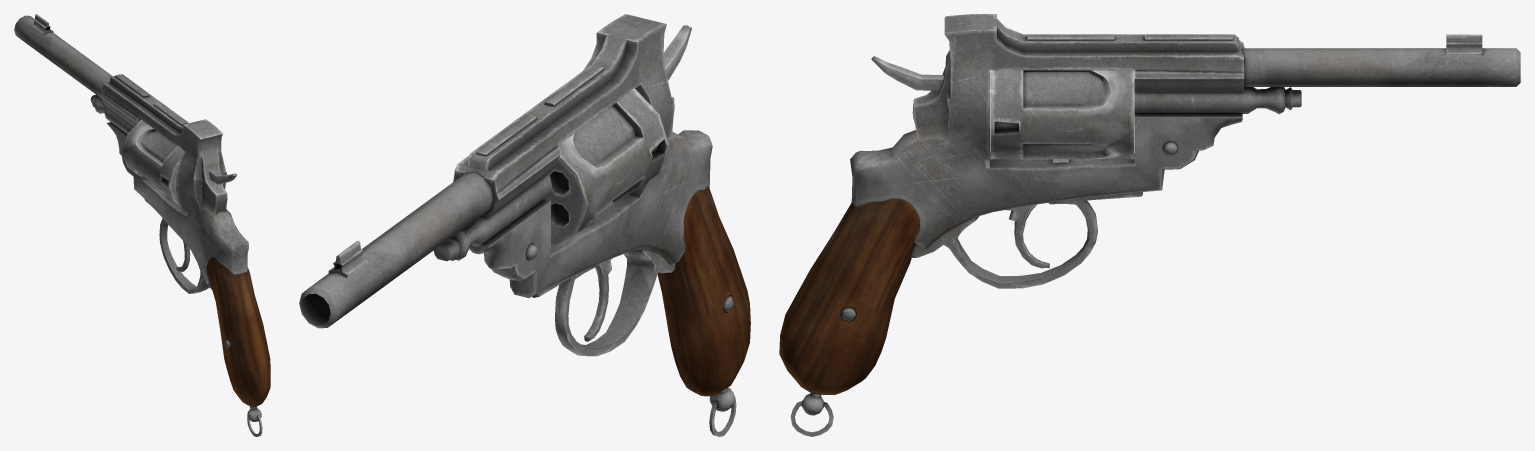
File: revolver.fbx
3 renders of one model, left to right at view 1: azimuth 30°, elevation 25°; view 2: azimuth 150°, elevation 25°; view 3: azimuth 270°, elevation 25°, orthographic. The views are drawn at different scales.
Parts seen in each view (by area): view 1: Body; view 2: Body; view 3: Body.
Boxes of the visible parts, box(x1,y1,x2,y2) form: Body: box(14, 14, 270, 436); Body: box(299, 14, 750, 436); Body: box(779, 14, 1520, 436).
Bounding box in the file's own units: 0.0372 × 0.1725 × 0.28.
1 material, 1 textured.
